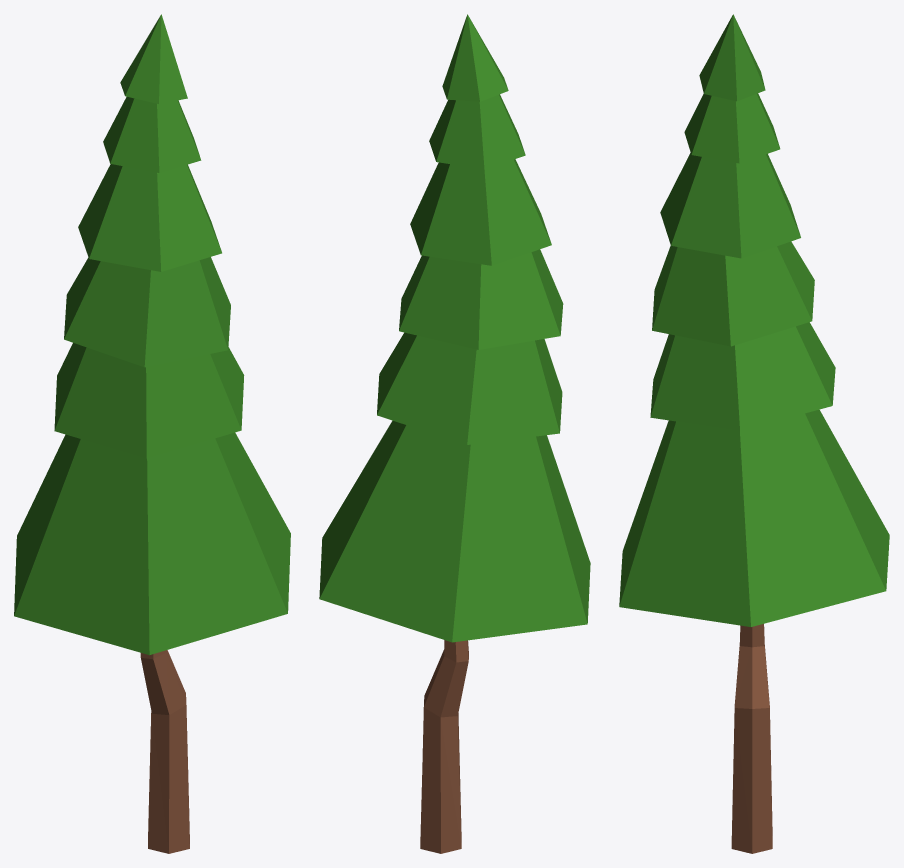
The model's file is TreePine01.glb.
The picture shows the model from 3 angles, left to right: view 1: azimuth 30°, elevation 25°; view 2: azimuth 150°, elevation 25°; view 3: azimuth 270°, elevation 25°; orthographic projection. The views are drawn at different scales.
Visible parts, largest first — view 1: Pine_Tree_01; view 2: Pine_Tree_01; view 3: Pine_Tree_01.
Boxes of the visible parts, bbox=[...] form: Pine_Tree_01: bbox=[14, 14, 290, 853]; Pine_Tree_01: bbox=[319, 14, 590, 853]; Pine_Tree_01: bbox=[619, 14, 889, 853].
Bounding box in the file's own units: 15.94 × 46.85 × 13.98.
1 material, 1 textured.
